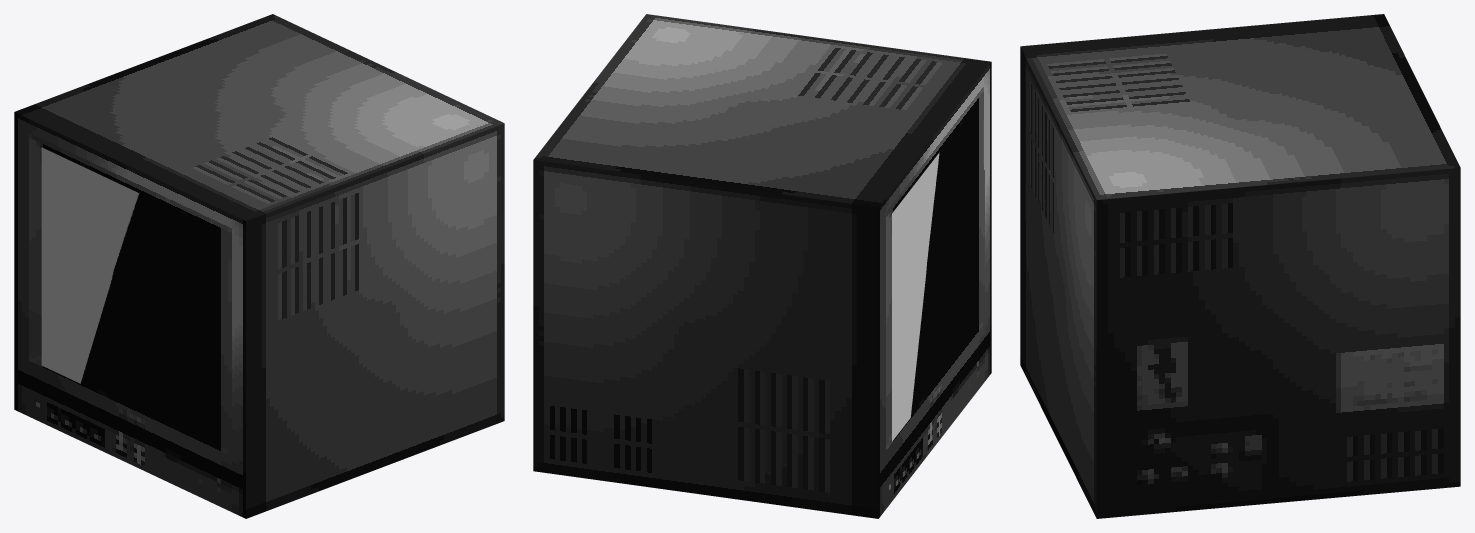
Rendered from primary_055.glb.
The picture shows the model from 3 angles, left to right: view 1: azimuth 30°, elevation 25°; view 2: azimuth 150°, elevation 25°; view 3: azimuth 270°, elevation 25°; orthographic projection. The views are drawn at different scales.
Visible parts, largest first — view 1: Object; view 2: Object; view 3: Object.
Boxes of the visible parts, <box> form: Object: <box>14,14,504,518</box>; Object: <box>533,14,991,518</box>; Object: <box>1020,14,1460,518</box>.
Size of the model in its own units: 0.5465 by 0.4365 by 0.5465.
7 materials, 7 textured.
